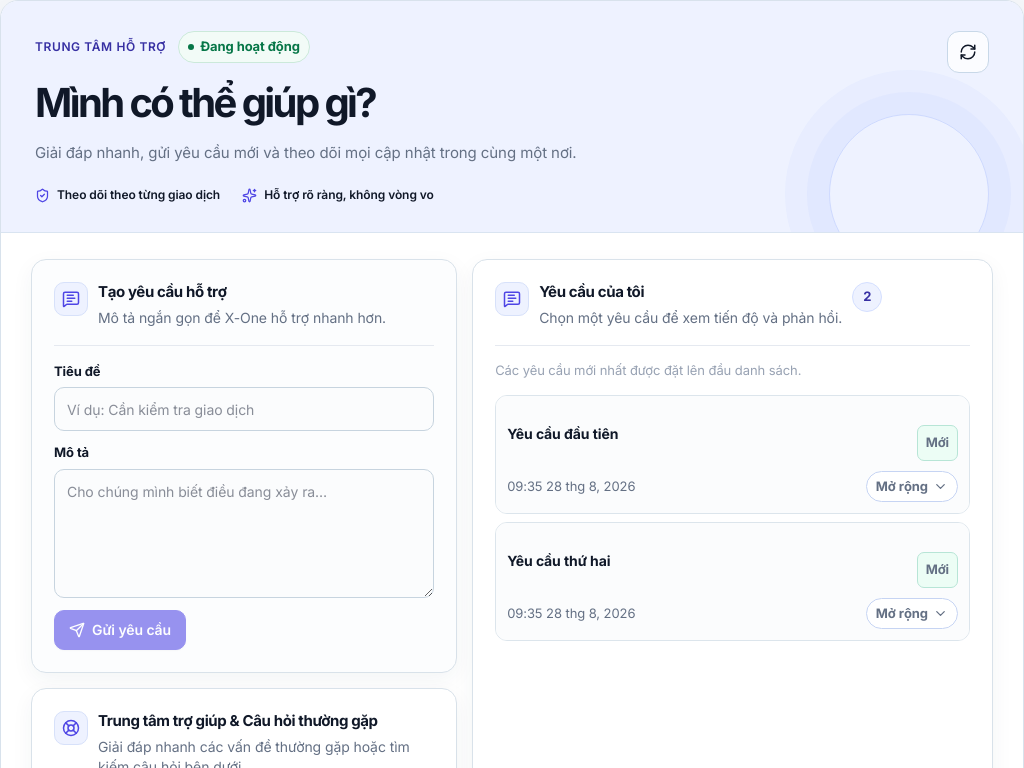
SupportPage linked transaction › renders the opened ticket detail directly below the clicked ticket
Click the button "Yêu cầu đầu tiên Mới 09:35 28 thg 8, 2026 Mở rộng": (563, 434) [496,396,969,513]
(page scrolled)
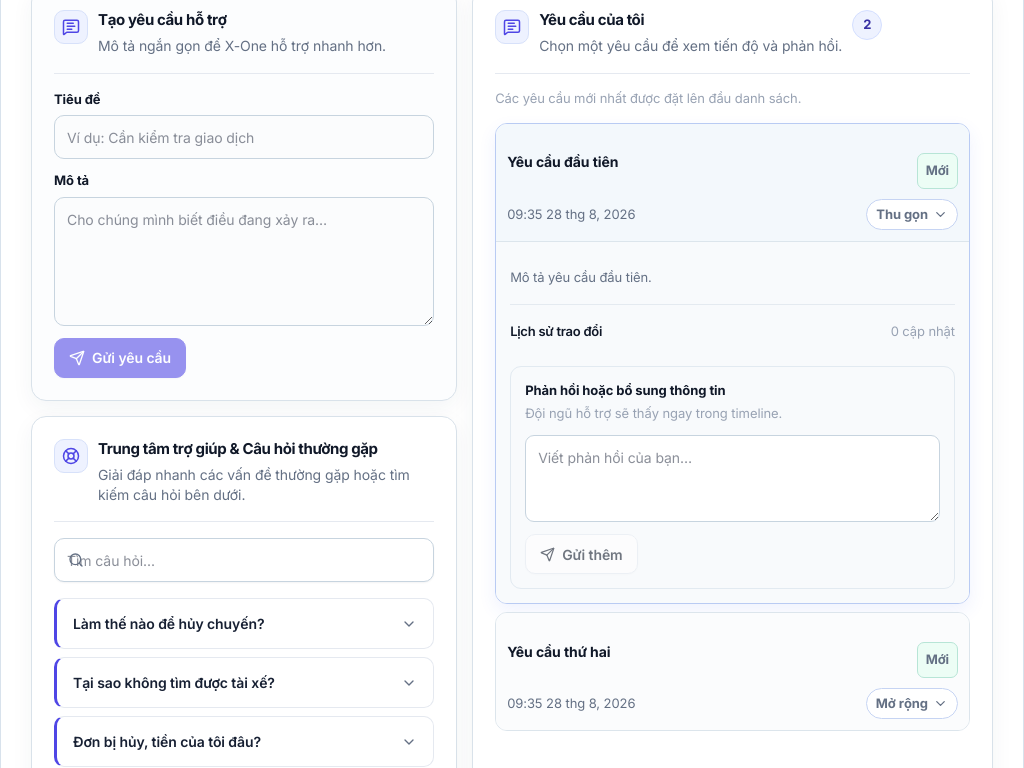
Expected: the button "Yêu cầu đầu tiên Mới 09:35 28 thg 8, 2026 Thu gọn" is expanded, [496,124,969,241]
Expected: the element named "Chi tiết Yêu cầu đầu tiên" is shown, [496,241,969,603]
